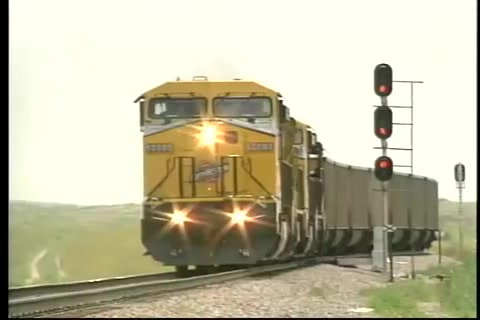train: (133, 77, 440, 271)
